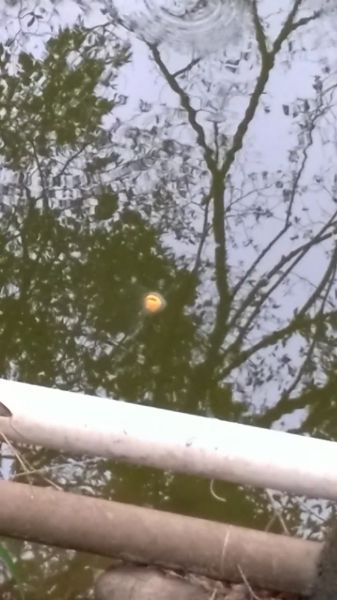eggs: (140, 289, 166, 318)
